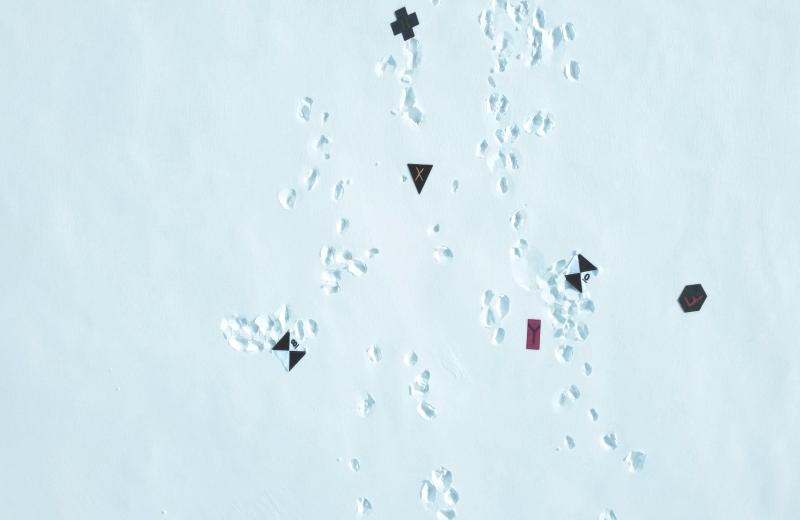Cross: (385, 5, 426, 42)
Hexagon: (673, 280, 706, 317)
Rectangle: (520, 317, 546, 353)
Triangle: (406, 160, 437, 198)
